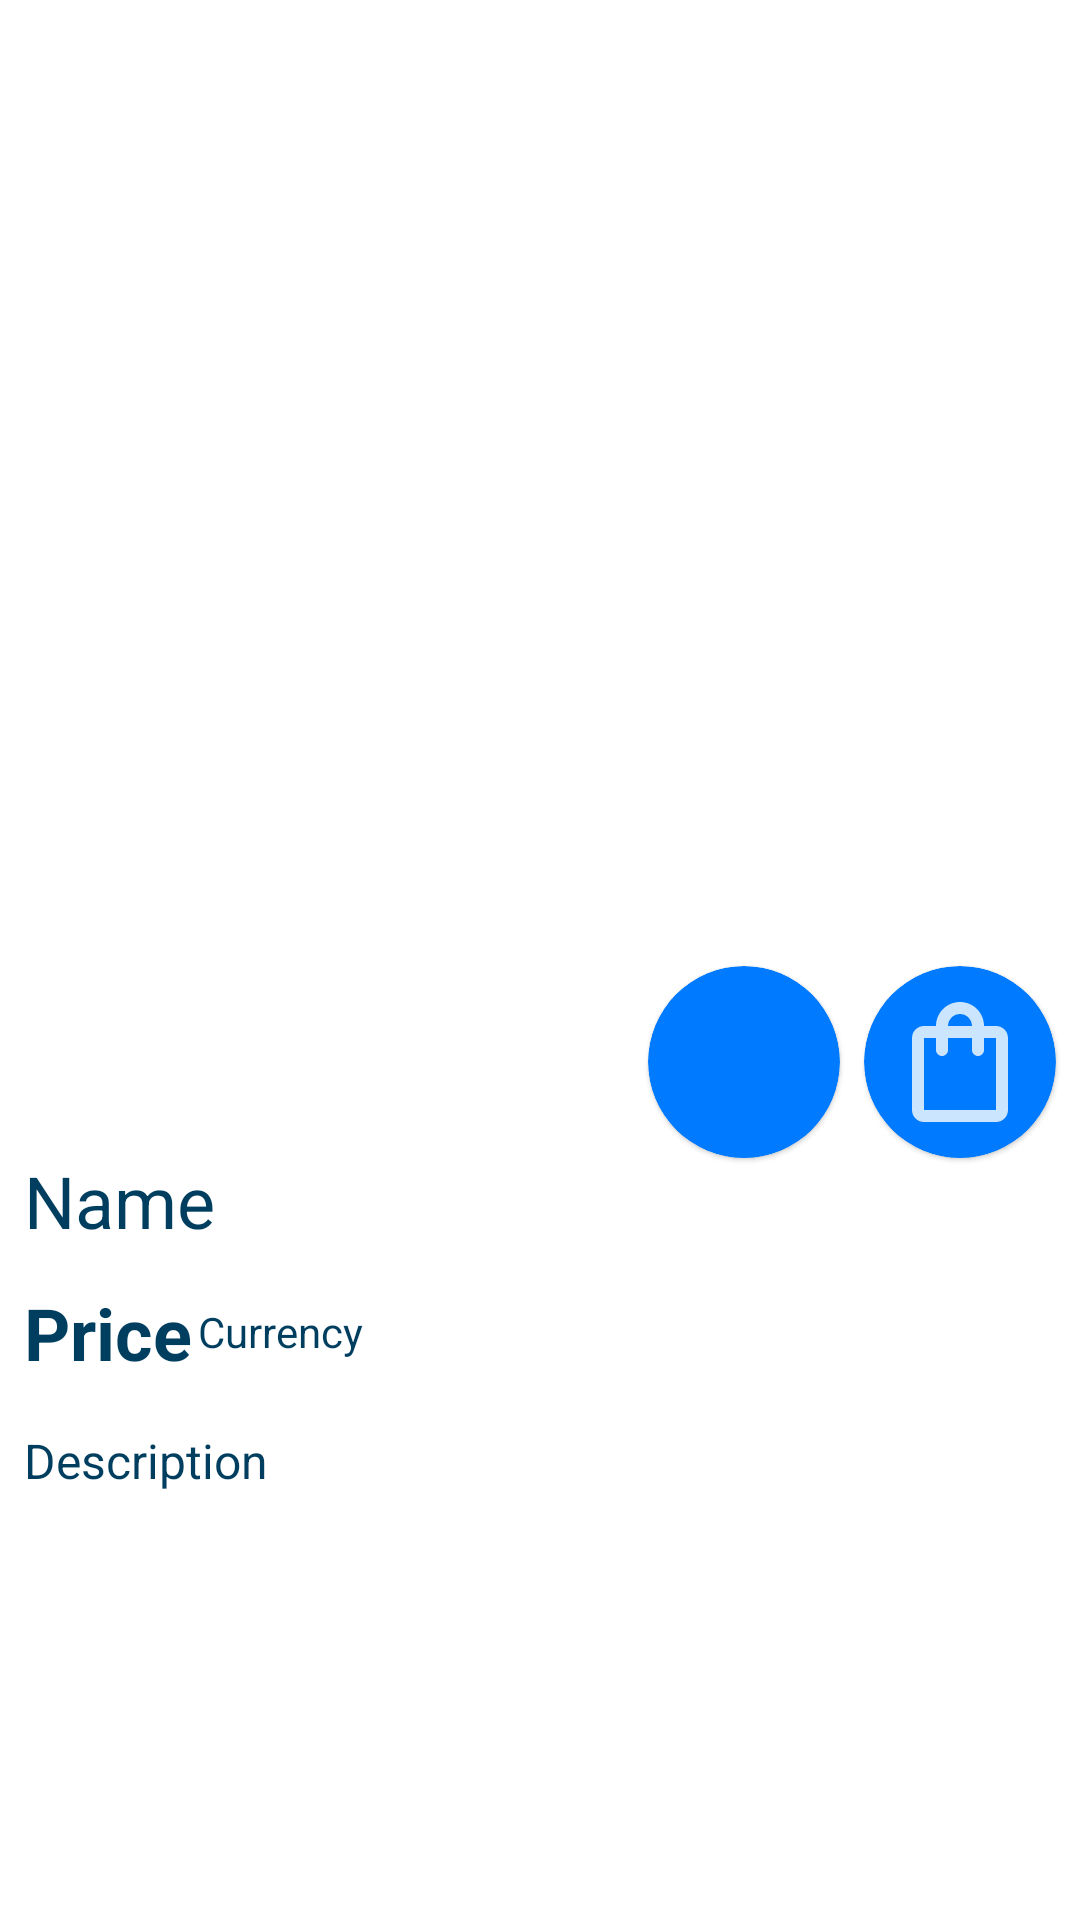

Point at icon controls on the screen. Image size 1080px×1920px, points as (x,y).
shop: (960,1062)
